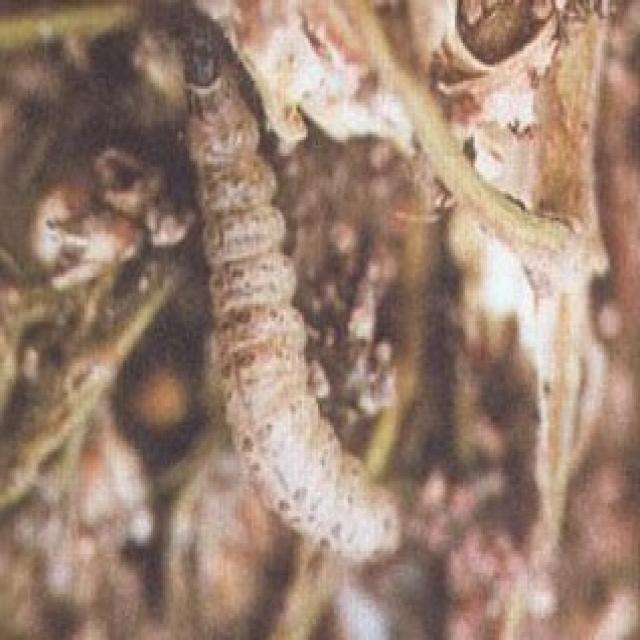peach borer: (170, 39, 412, 566)
